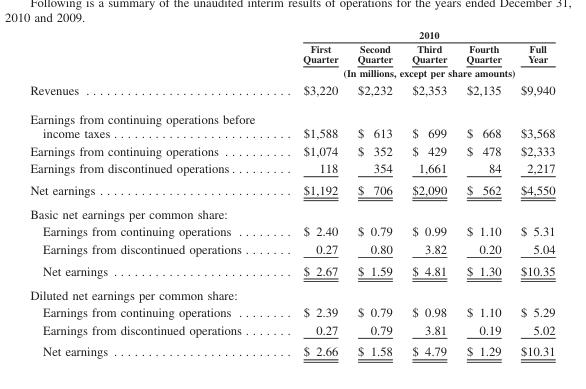table: (29, 28, 554, 358)
table column: (29, 28, 278, 358), (278, 28, 347, 358), (401, 28, 456, 358), (347, 28, 401, 358), (456, 28, 510, 358), (510, 28, 554, 358)
table column header: (29, 28, 554, 80)
table projected row header: (29, 201, 554, 222), (29, 282, 554, 303)
table row: (29, 104, 554, 141), (29, 41, 554, 65), (29, 80, 554, 104), (29, 178, 554, 201), (29, 259, 554, 282), (29, 201, 554, 222), (29, 282, 554, 303), (29, 239, 554, 259), (29, 320, 554, 340), (29, 159, 554, 178), (29, 141, 554, 159), (29, 340, 554, 358), (29, 222, 554, 239), (29, 303, 554, 320), (29, 65, 554, 80), (29, 28, 554, 41)
table spanning cell: (278, 65, 554, 80), (278, 28, 554, 41)
